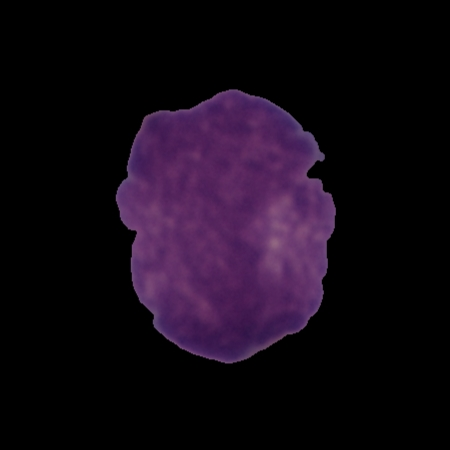HEM: (113, 85, 340, 366)
